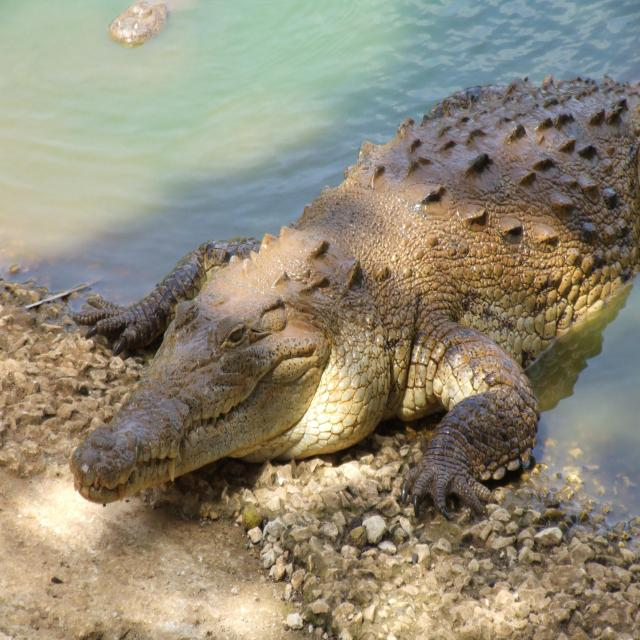crocodile: (24, 46, 640, 567)
